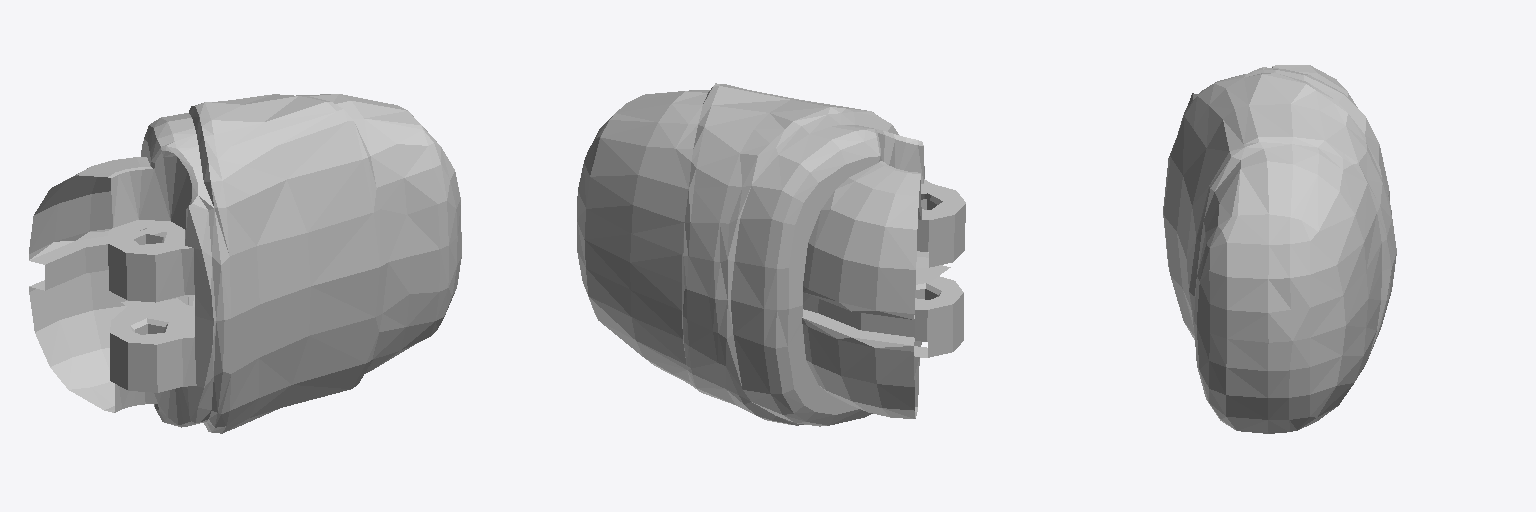
The model's file is PhalaxEnd.obj.
The picture shows the model from 3 angles: view 1: azimuth 30°, elevation 25°; view 2: azimuth 150°, elevation 25°; view 3: azimuth 270°, elevation 25°; orthographic projection.
Parts seen in each view (by area): view 1: root; view 2: root; view 3: root.
Boxes of the visible parts, box(x1,y1,x2,y2) form: root: box(29, 94, 461, 433); root: box(577, 83, 965, 426); root: box(1163, 65, 1396, 433).
Size of the model in its own units: 20.4 by 16.22 by 11.06.